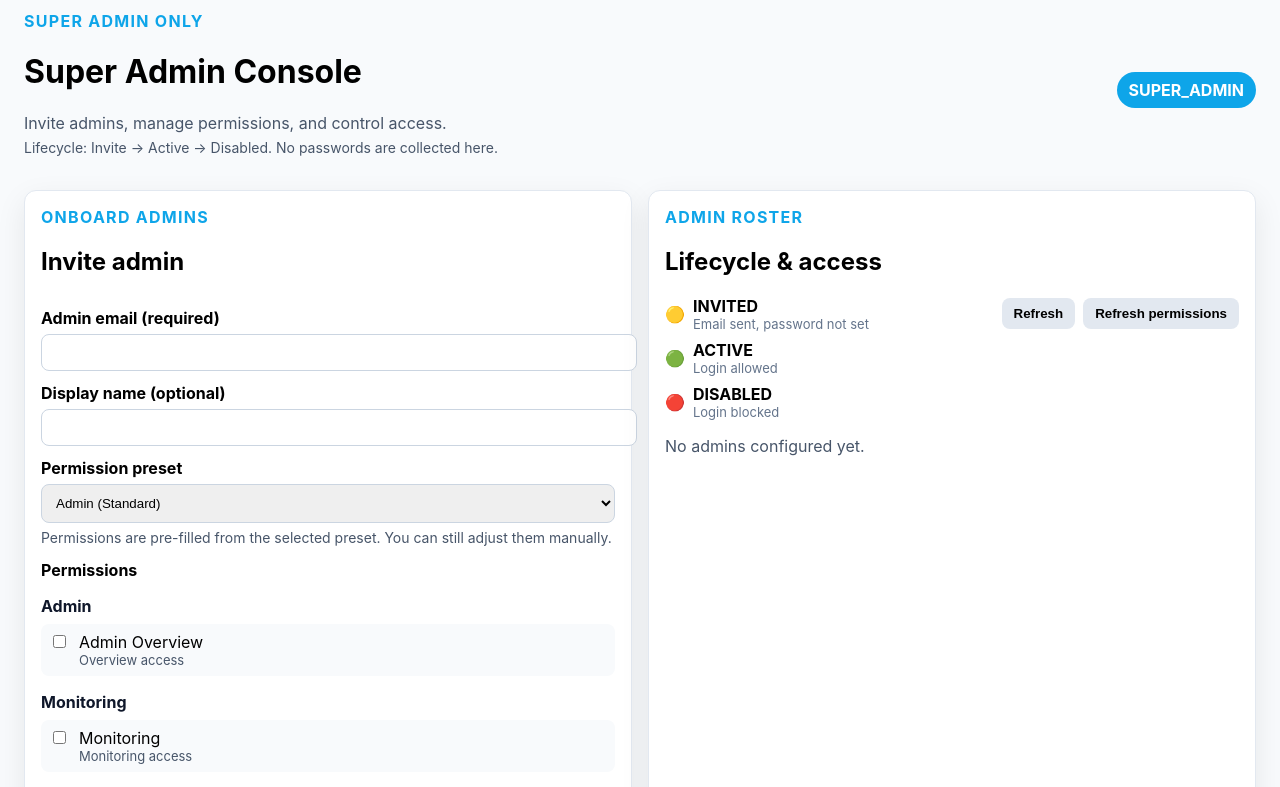
Test: AdminManagement › sends an invite with the fallback sender email when none is configured
expect the checkbox labelled "Admin Overview Overview access" is shown: met, box [53, 635, 66, 648]
In the field labelled "Admin email (required)": coordinates (339, 352) [41, 334, 637, 371], type "test@example.com"
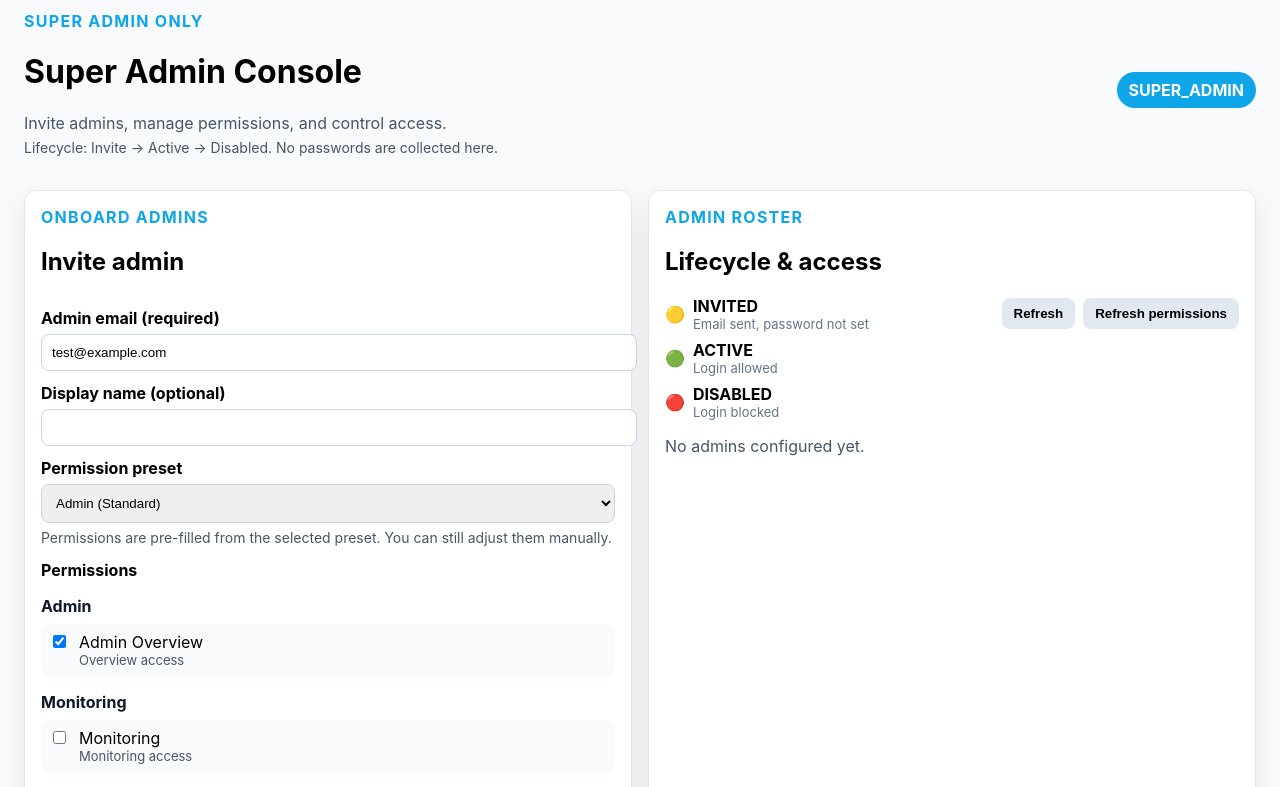
In the field labelled "Display name (optional)": coordinates (339, 427) [41, 409, 637, 446], type "Test Admin"
(page scrolled)
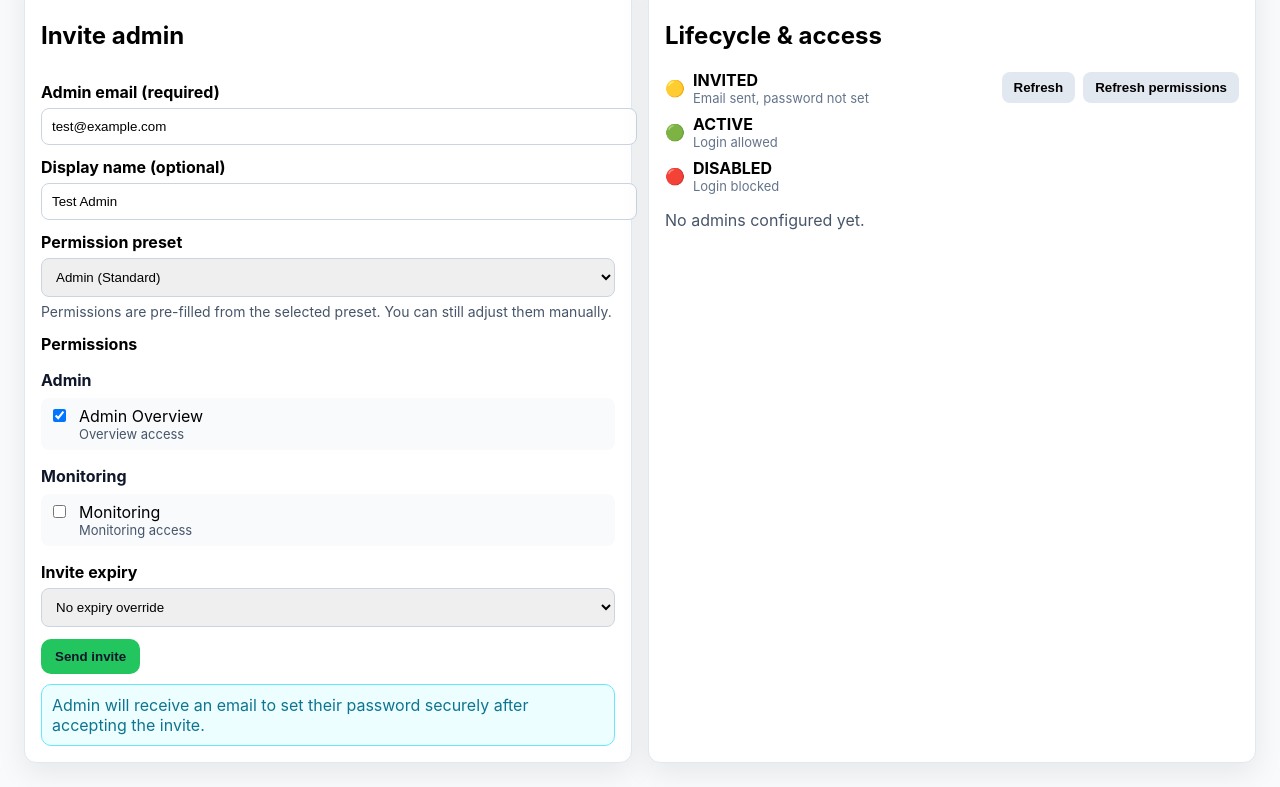
Click the button "Send invite": coordinates (91, 656) [41, 639, 140, 674]
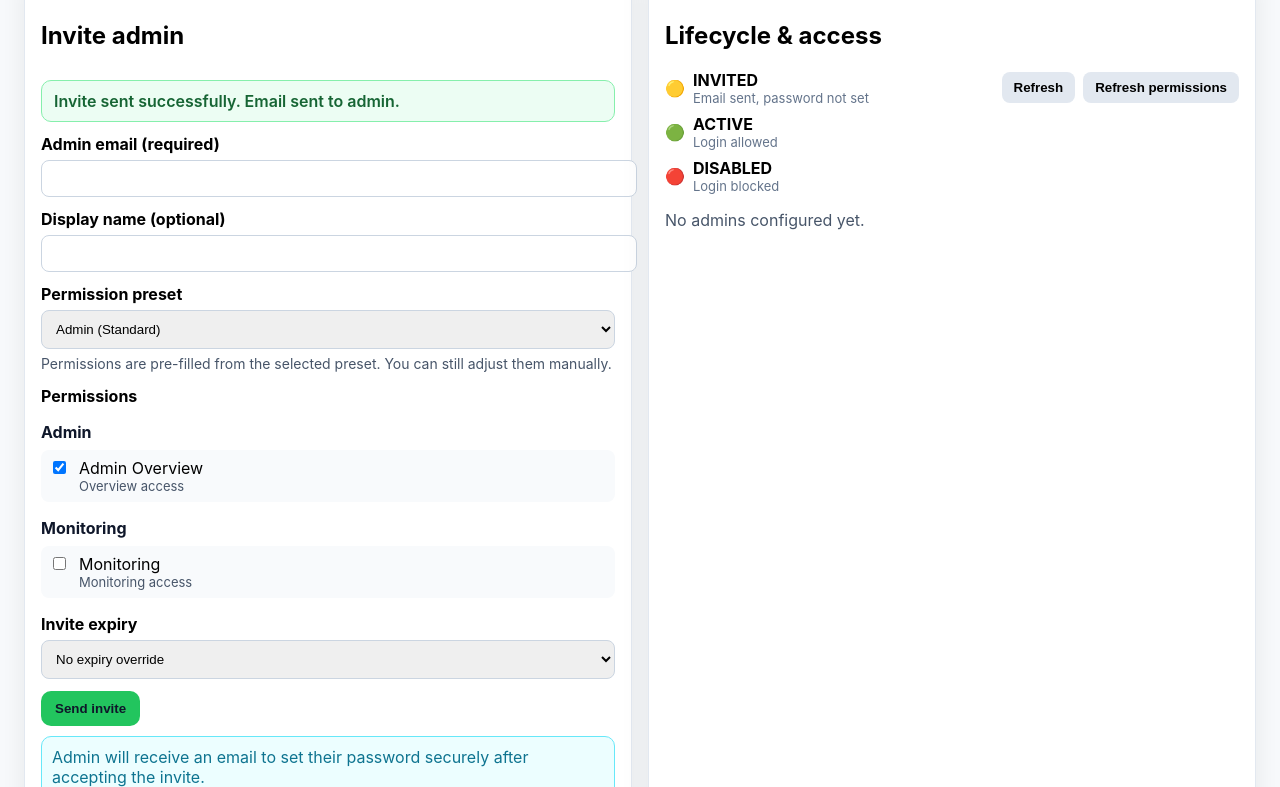
expect the text "Invite sent successfully. Email sent to admin." is shown: met, box [41, 80, 615, 122]
